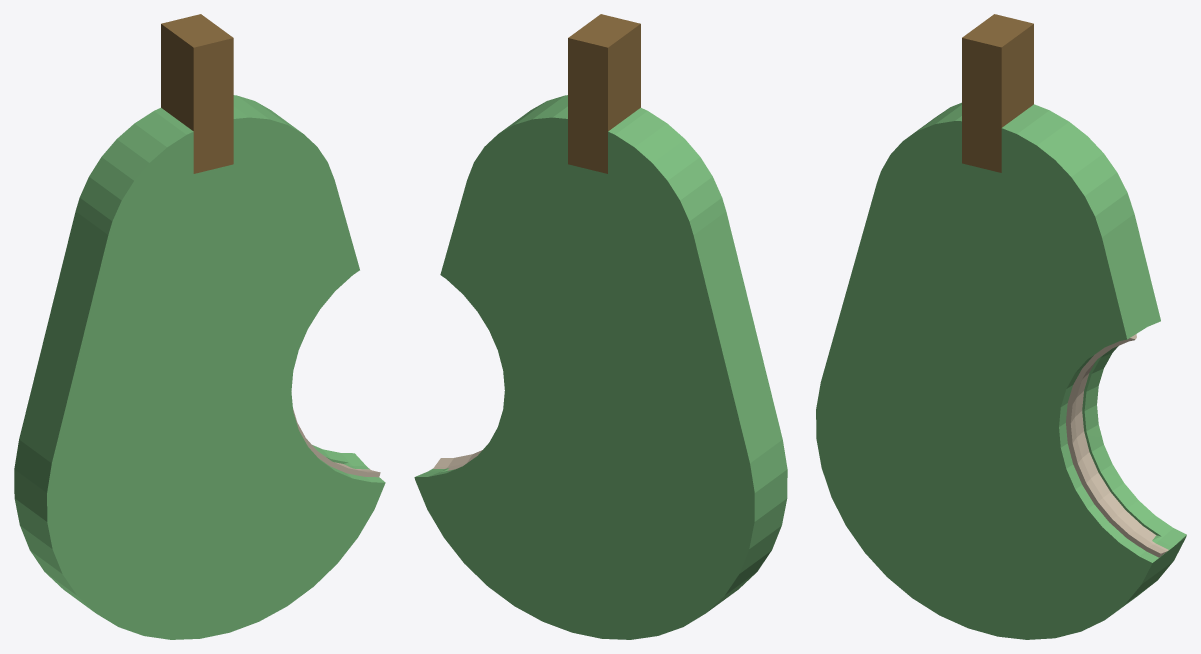
File: Pera.glb
3 views of the same model, side by side, from view 1: azimuth 30°, elevation 25°; view 2: azimuth 150°, elevation 25°; view 3: azimuth 330°, elevation 25° (orthographic).
Parts seen in each view (by area): view 1: Mesh_Mesh_head_geo.001_lambert2SG.001; view 2: Mesh_Mesh_head_geo.001_lambert2SG.001; view 3: Mesh_Mesh_head_geo.001_lambert2SG.001.
Part boxes in pixels (left/top/right/bottom): Mesh_Mesh_head_geo.001_lambert2SG.001: left=14, top=14, right=385, bottom=639; Mesh_Mesh_head_geo.001_lambert2SG.001: left=414, top=14, right=787, bottom=639; Mesh_Mesh_head_geo.001_lambert2SG.001: left=816, top=14, right=1186, bottom=639.
Bounding box in the file's own units: 3 × 5 × 0.5.
